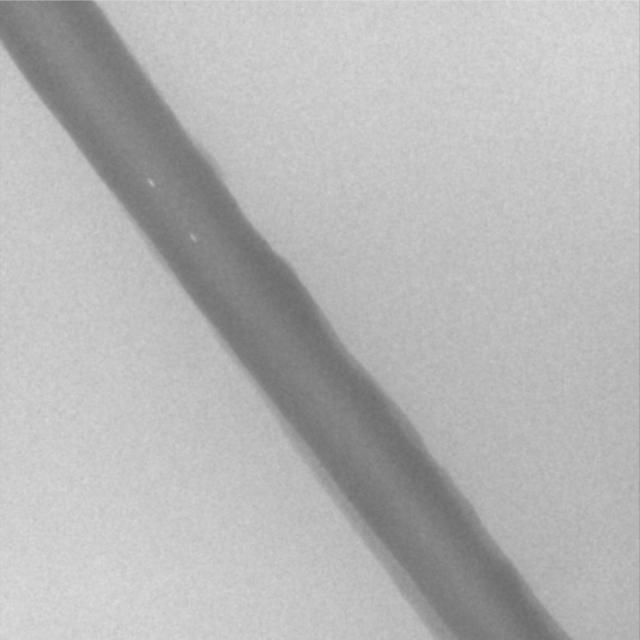air hole: (188, 232, 197, 243), (146, 178, 154, 188)
